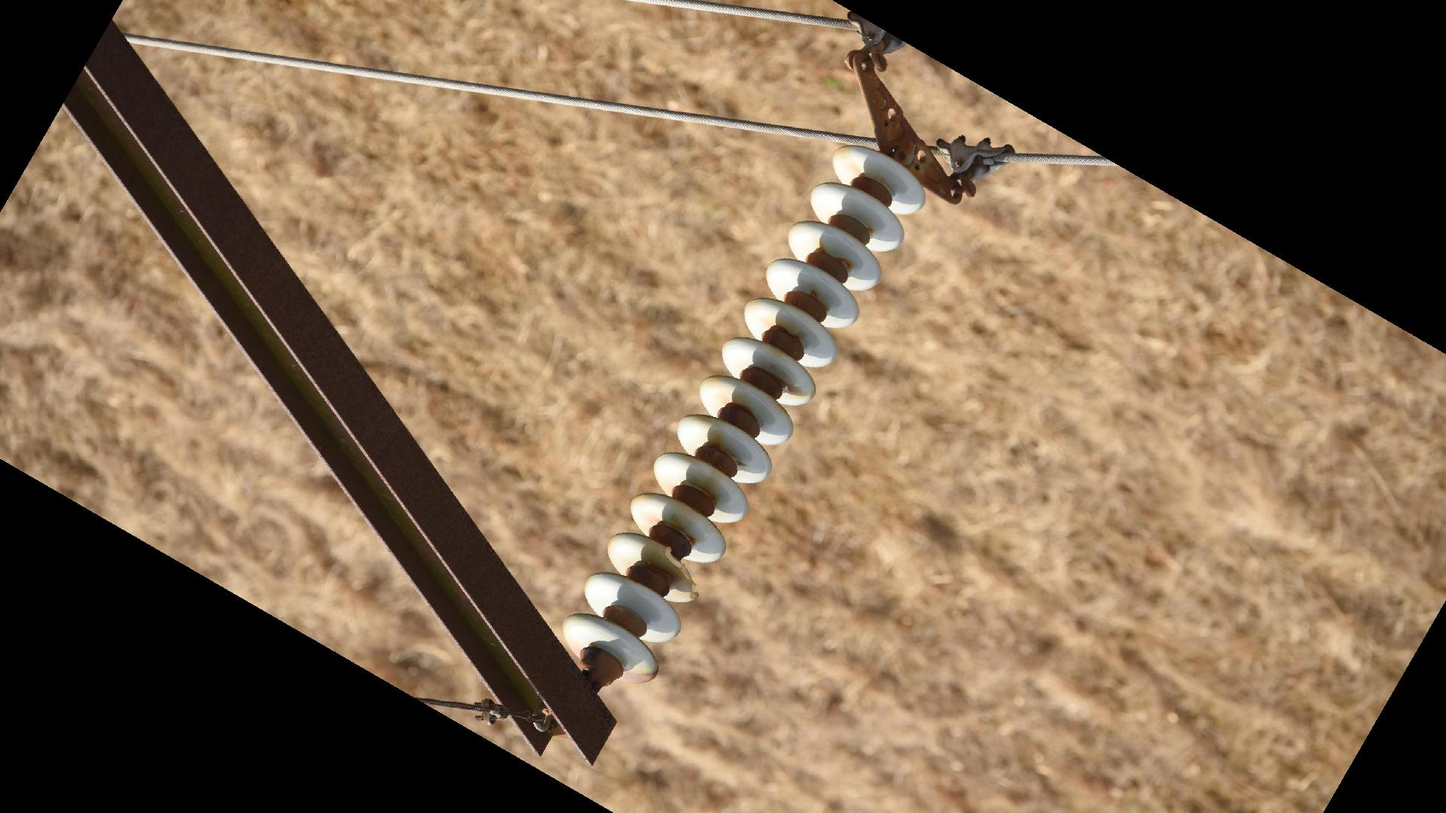insulator: (557, 139, 930, 690)
insulator_breakage: (659, 541, 706, 607)
